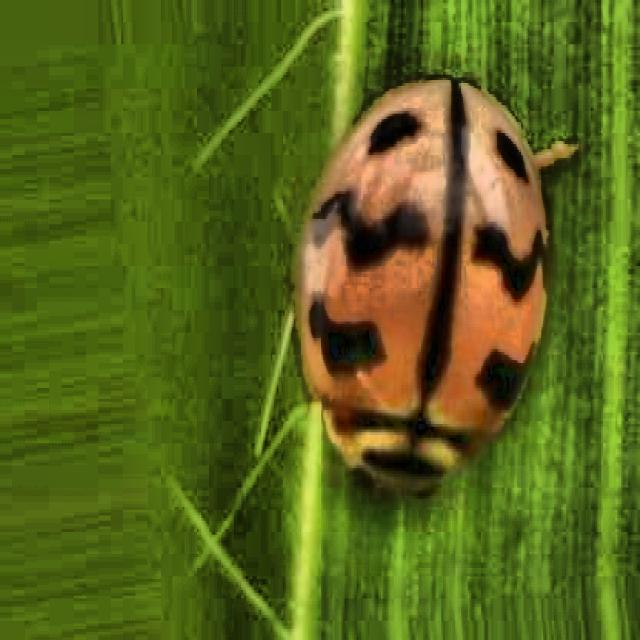Asian-Lady-beetle: (264, 18, 572, 577)
